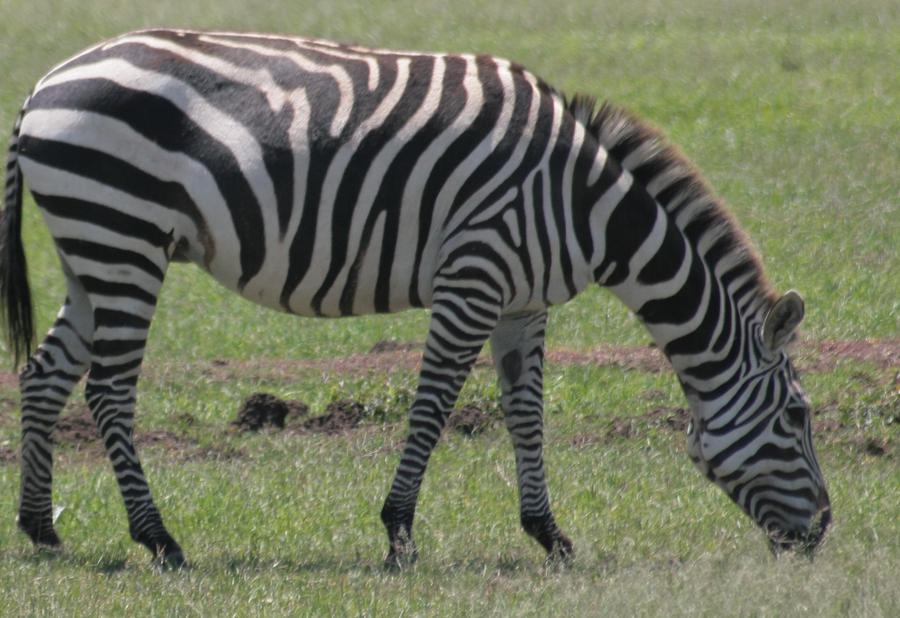zebra_plains: (34, 24, 573, 309)
